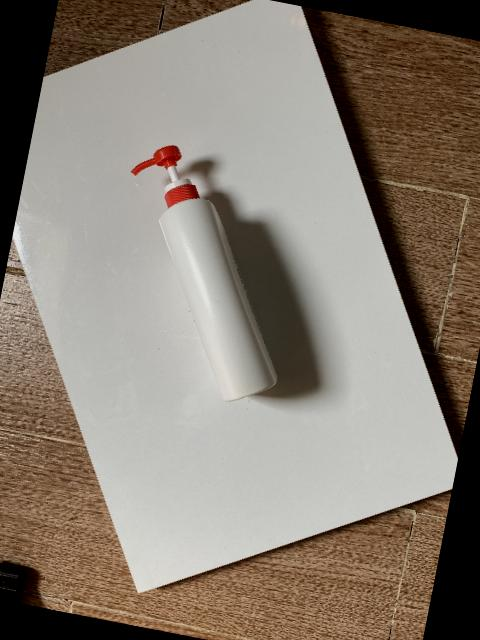life-buoy: (133, 146, 286, 405)
